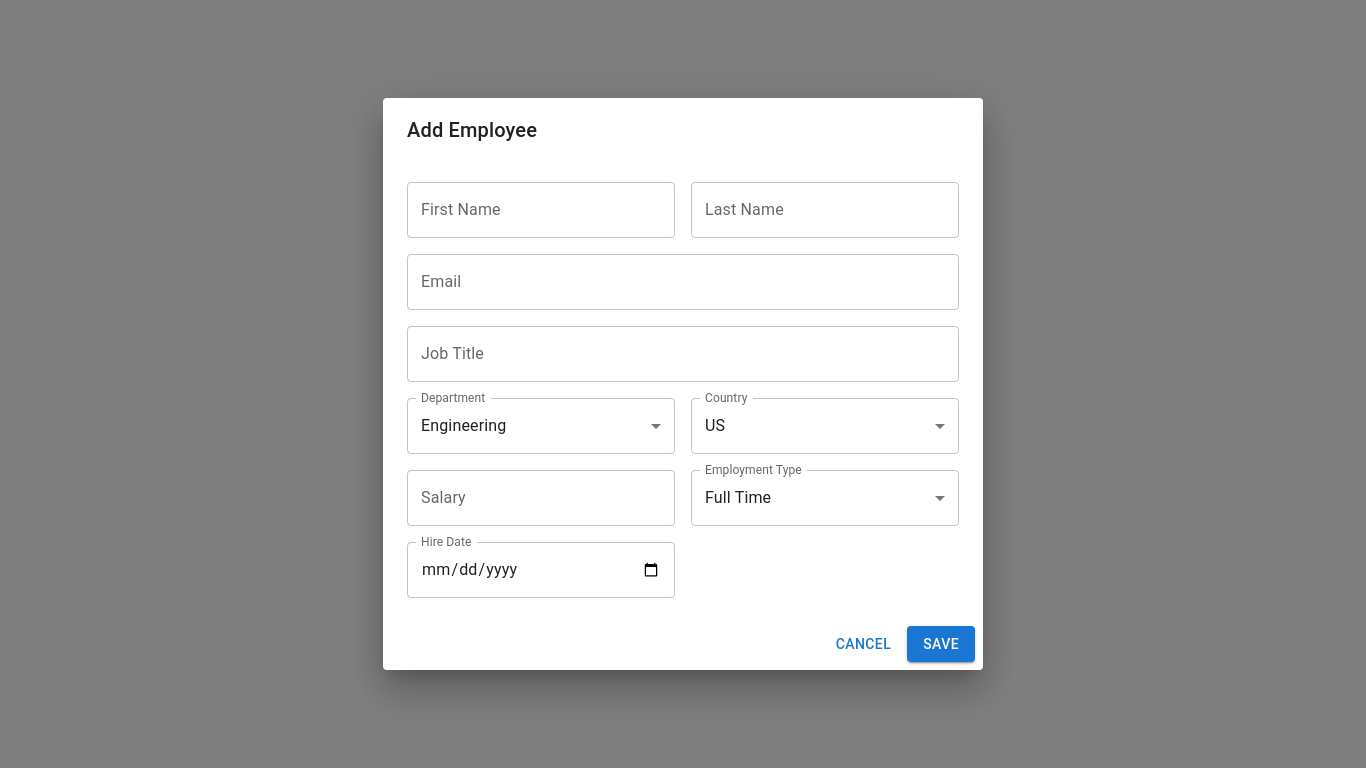
it: EmployeeModal › shows validation error when first name is empty
Click the button "Save".
click(941, 644)  # box [907,626,975,662]
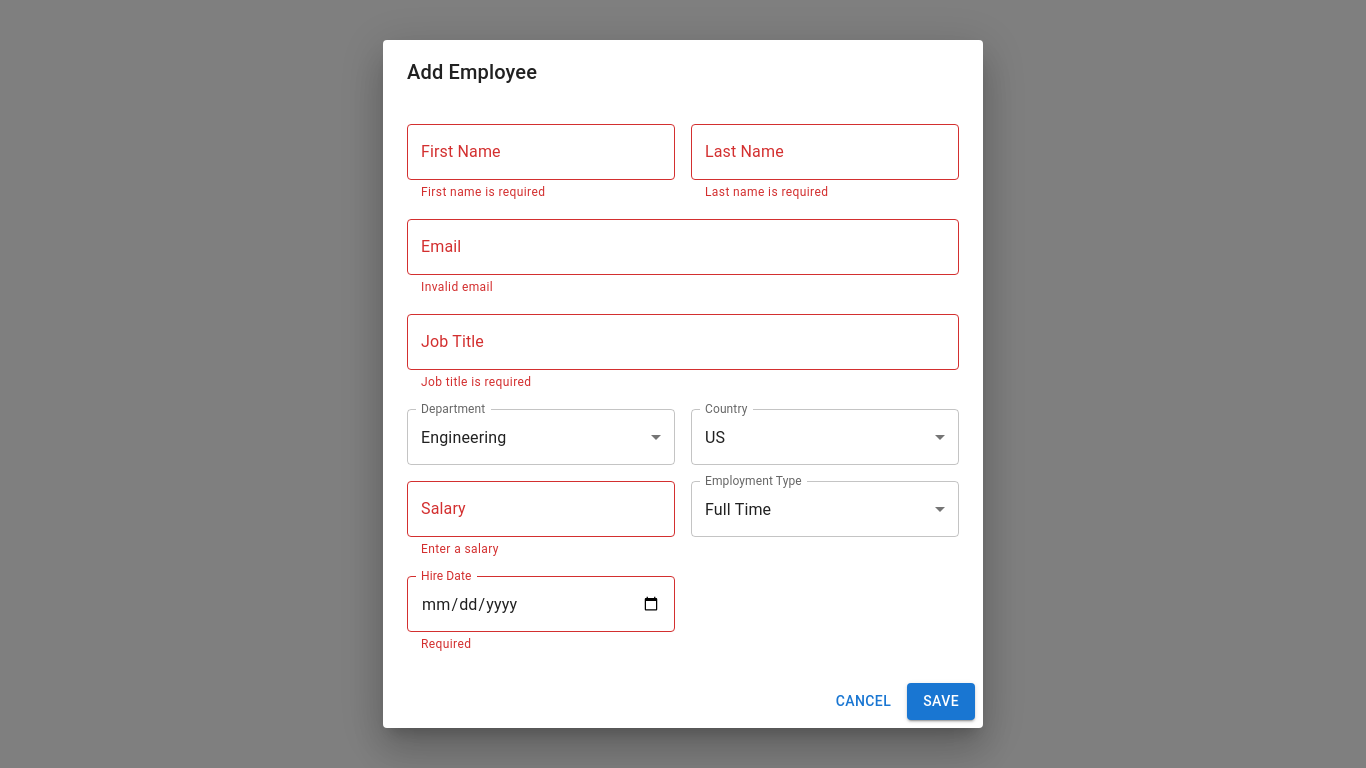
Result: the text "First name is required" is shown at [421,186,545,200]
